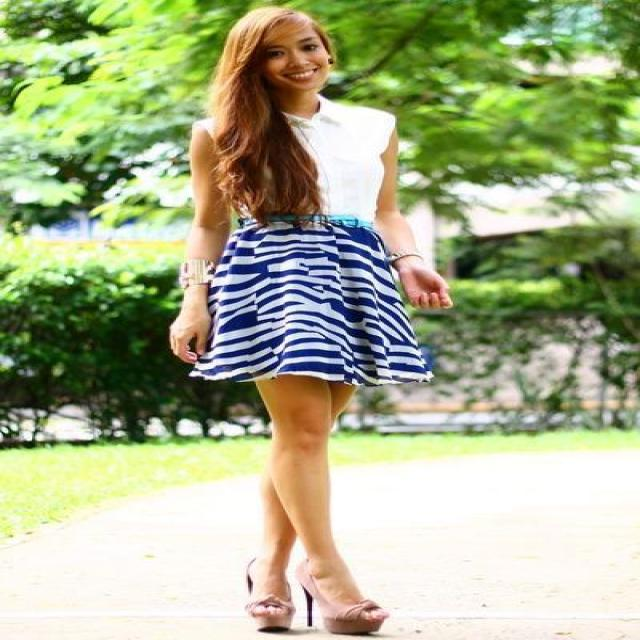shirt: (293, 94, 395, 216)
shoe: (245, 550, 384, 636)
skirt: (173, 196, 432, 386)
